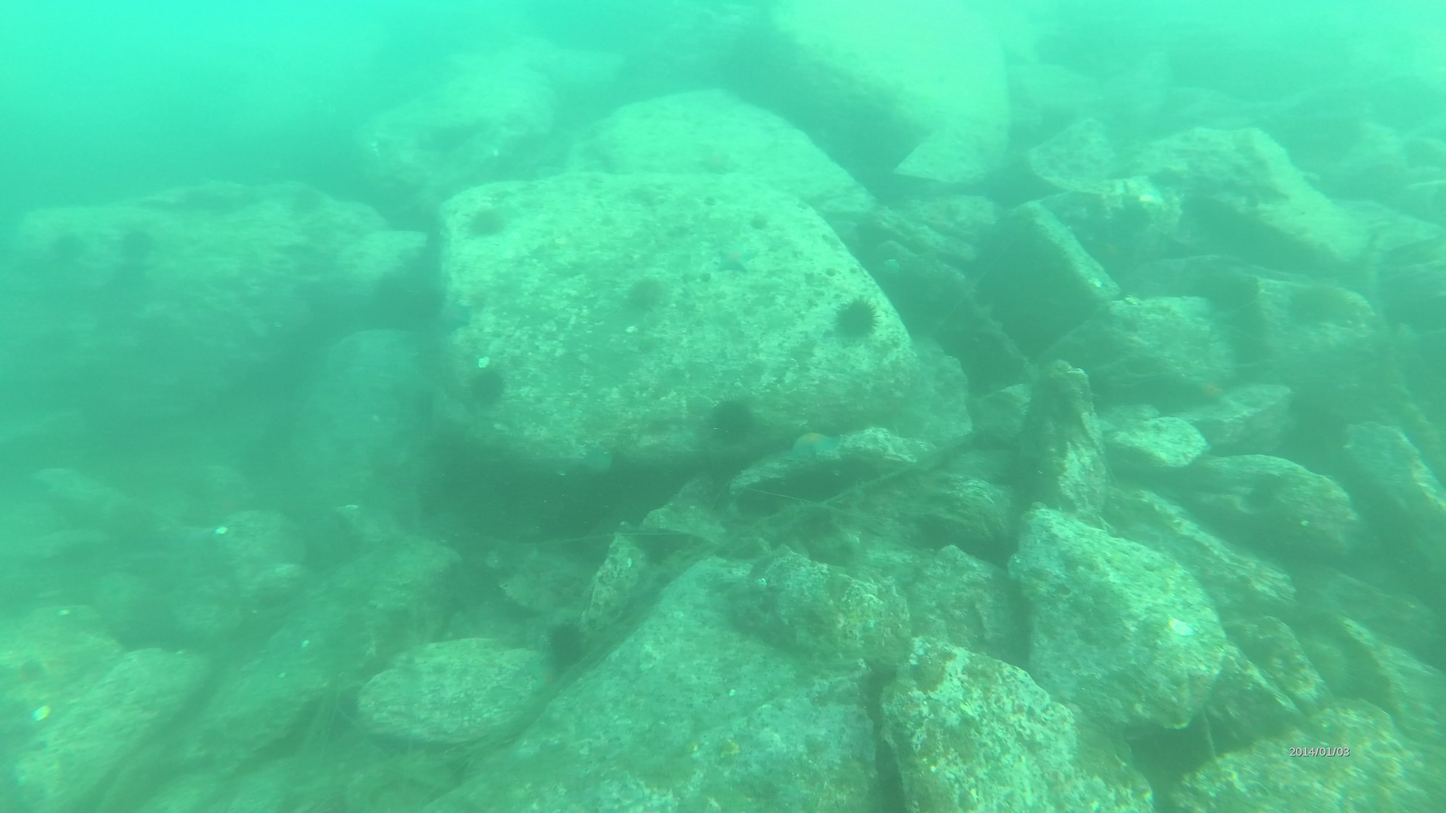starfish: (542, 617, 592, 683), (1284, 276, 1347, 326), (699, 395, 755, 446), (830, 289, 883, 342), (110, 222, 159, 277), (616, 273, 667, 323), (466, 369, 508, 411), (41, 223, 83, 264), (462, 204, 506, 239)
